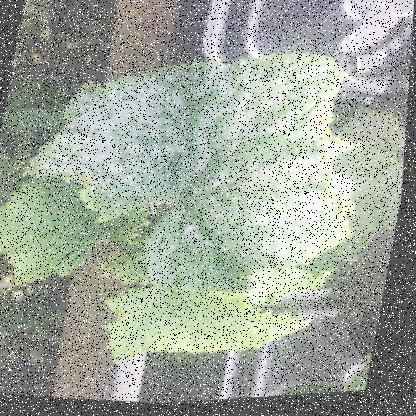PowderyMildew: (92, 82, 199, 195), (206, 152, 321, 257), (196, 58, 308, 142)
